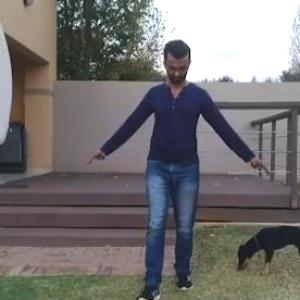land: (92, 42, 252, 296)
